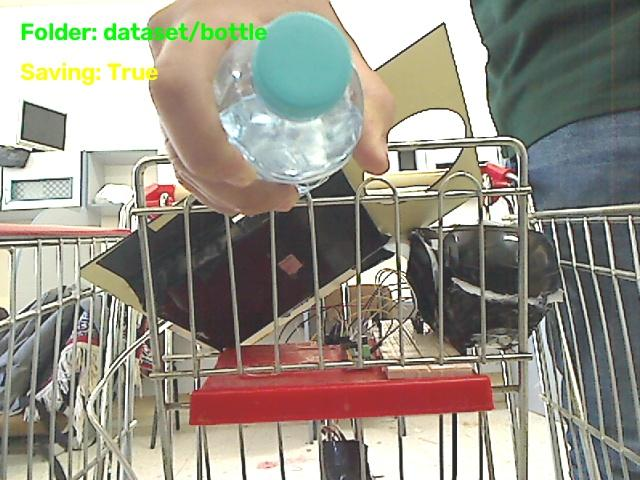Bottle: (215, 13, 361, 192)
